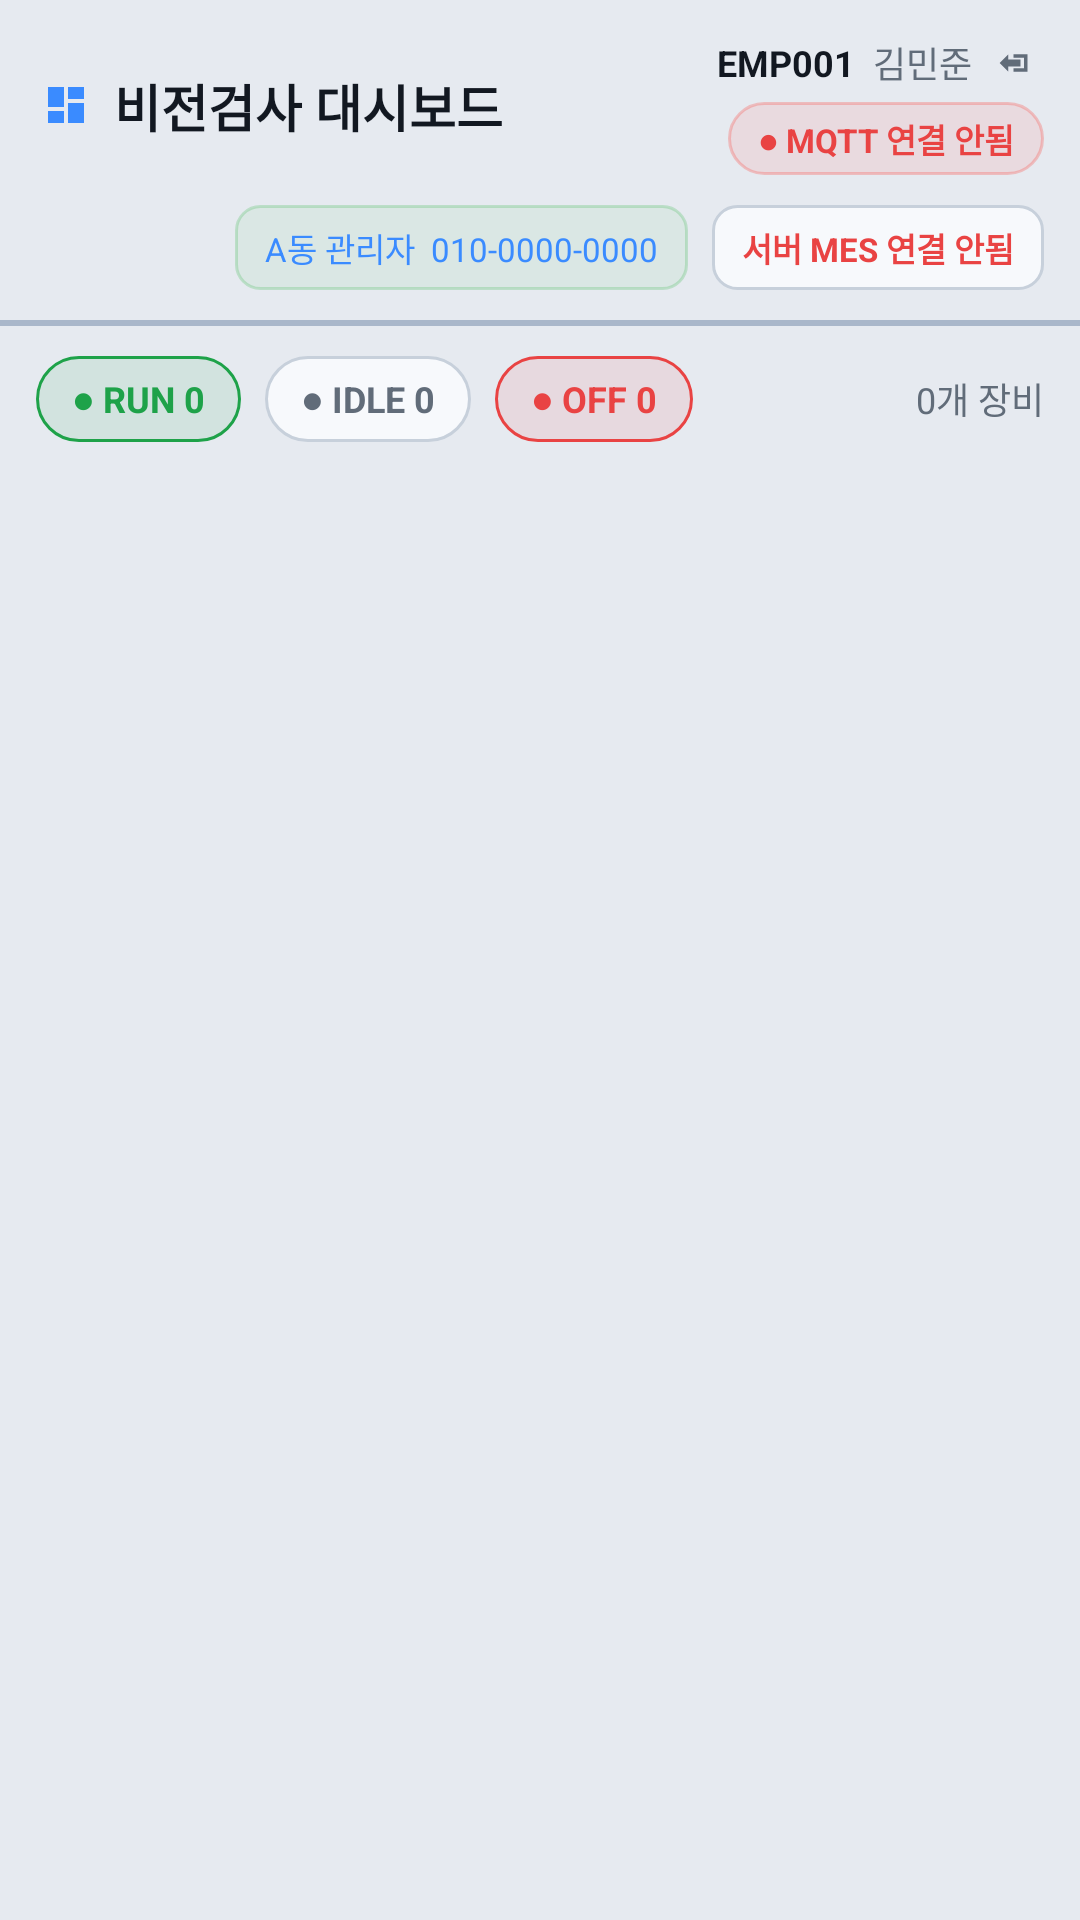

Icon click points for this 1080x1920 phone screenshot, format (x,y):
dashboard: (66,105)
